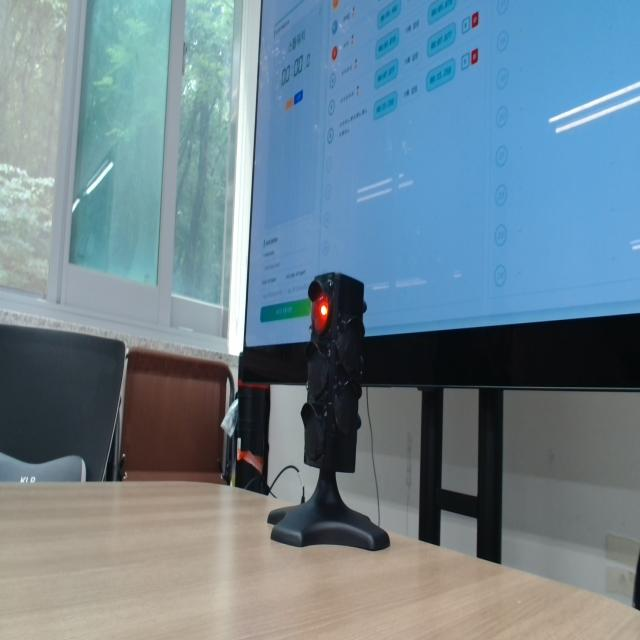red_light: (312, 293, 329, 334)
